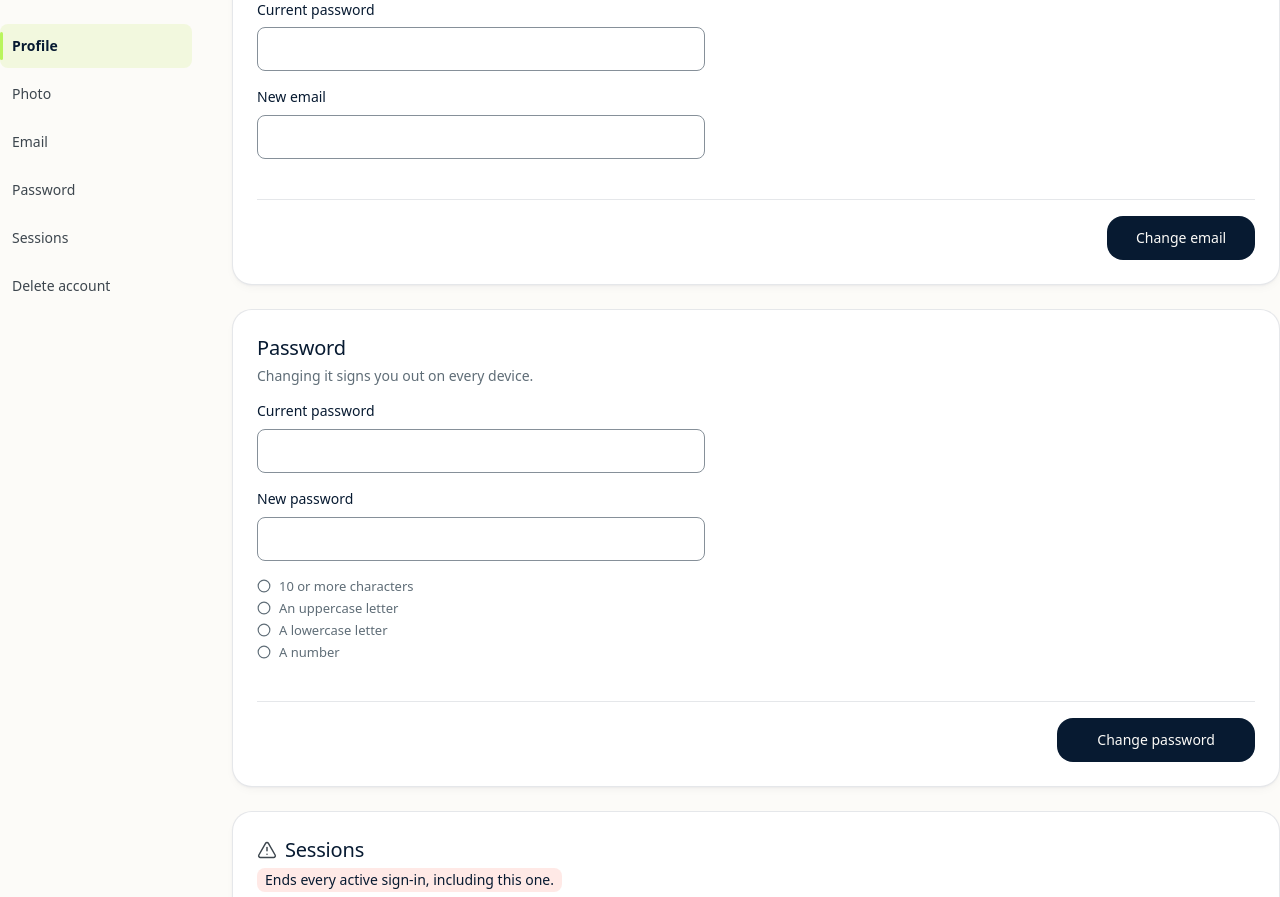
Test: a wrong current password shows the field error and keeps the user signed in
This screenshot has width=1280, height=897.
(page scrolled)
In the 2nd password field labelled "Current password": {"x": 481, "y": 451} 257,429 -> 705,473, type "WrongPassw0rd!"
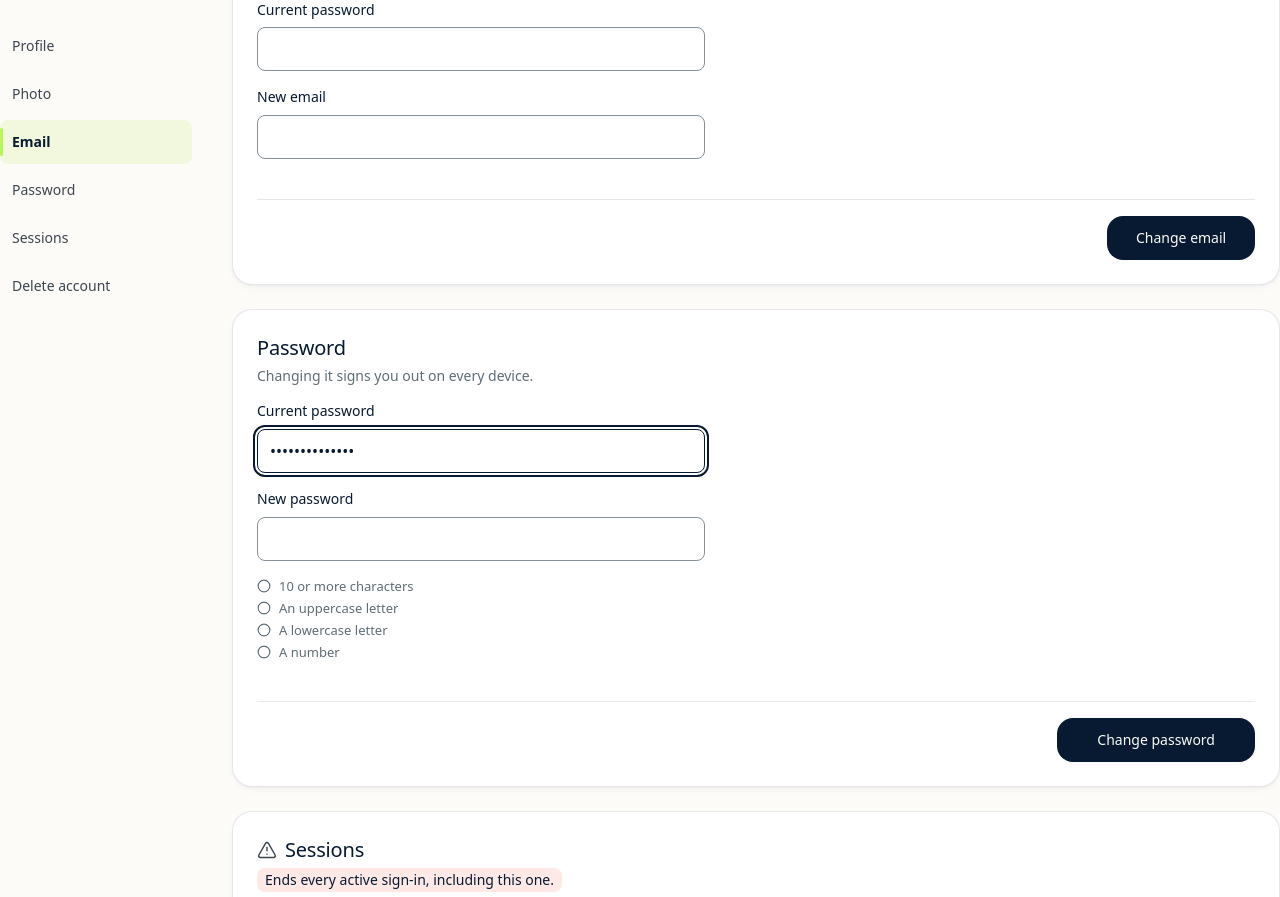
In the password field labelled "New password": {"x": 481, "y": 538} 257,516 -> 705,560, type "NewPassw0rd!"
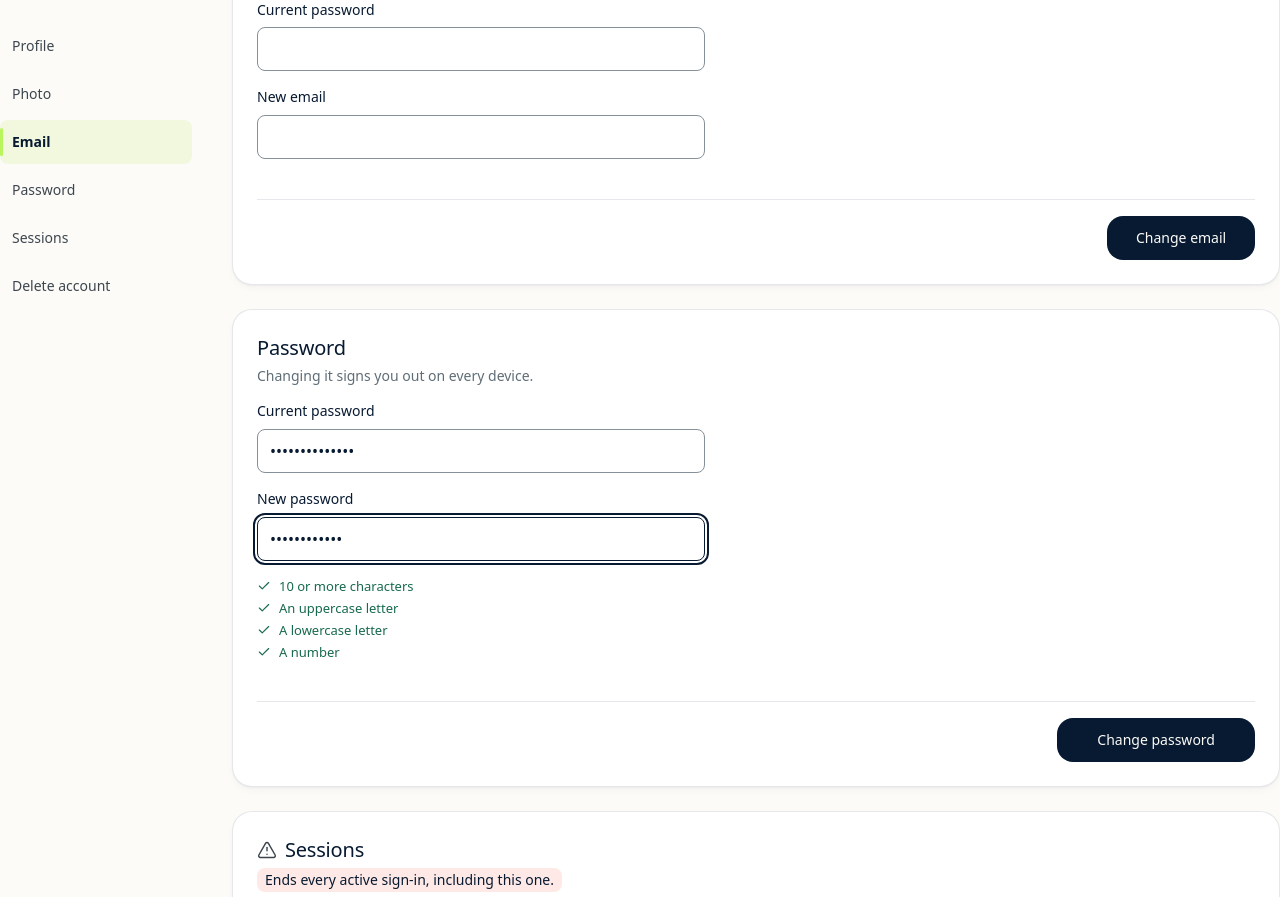
Click the button "Change password": {"x": 1156, "y": 740} 1057,718 -> 1255,762
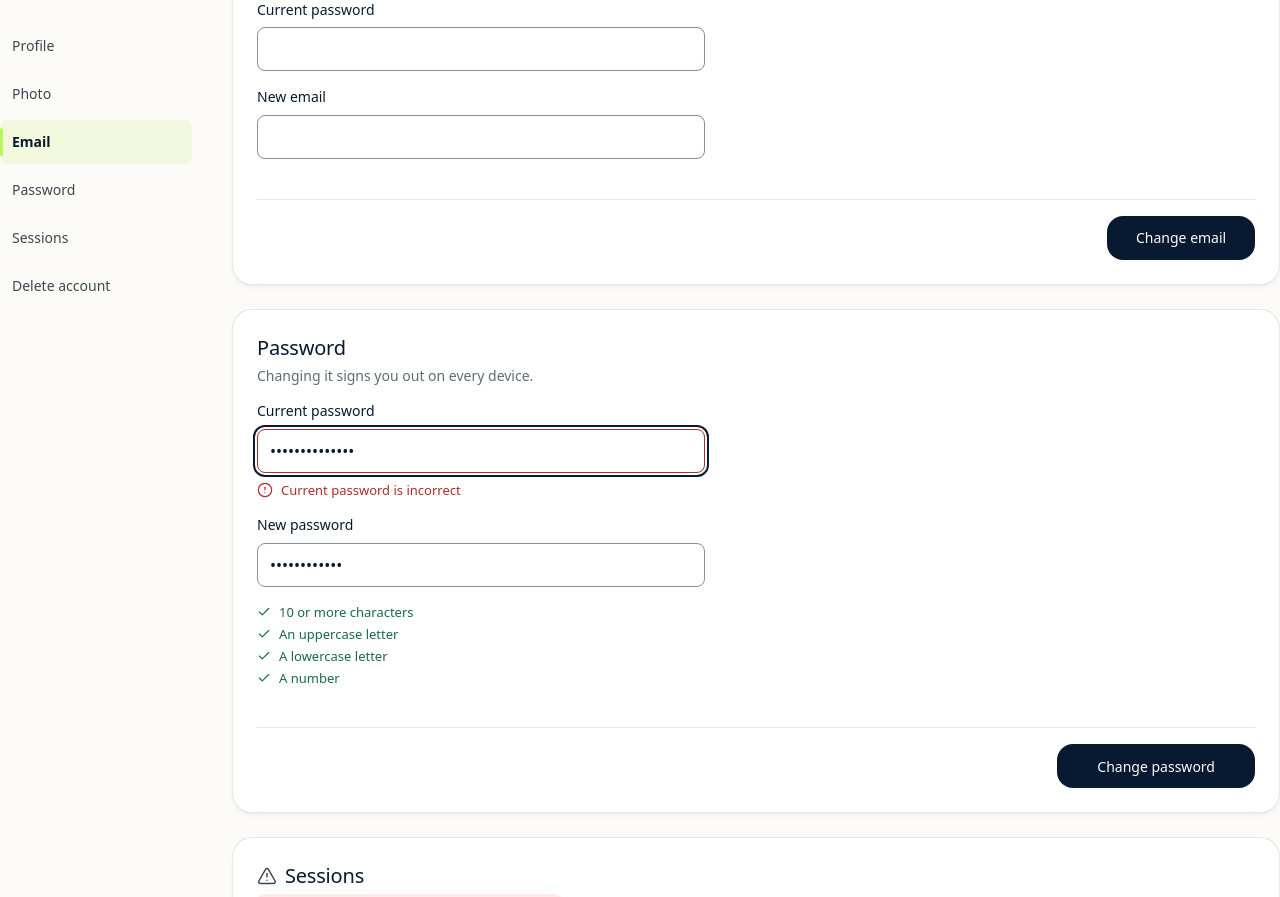
Now the text "Current password is incorrect" is shown, box 257,481 -> 461,499
